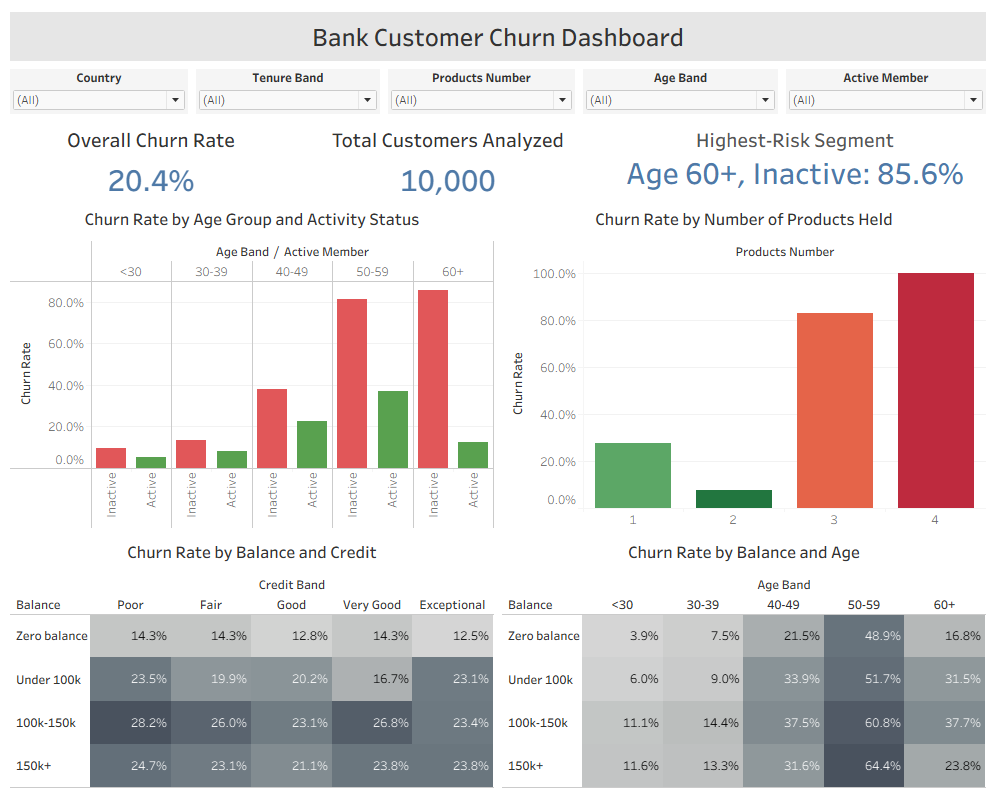

This screenshot's page, from the dashboard's own definition file:
{"tool":"tableau","page":{"name":"Bank Customer Churn Dashboard","canvas":[1000,800],"ordinal":0},"visuals":[{"type":"title","box":[8,8,984,57]},{"type":"filter","title":"Age Band","param":"[federated.1b5b0w31o3w9tf1gng54f0757s9s].[none:country:nk]","box":[8,65,186,52.6]},{"type":"filter","title":"Age Band","param":"[federated.1b5b0w31o3w9tf1gng54f0757s9s].[none:tenure_band:nk]","box":[194,65,192,52.6]},{"type":"filter","title":"Age Band","param":"[federated.1b5b0w31o3w9tf1gng54f0757s9s].[none:products_number:ok]","box":[386,65,195,52.6]},{"type":"filter","title":"Age Band","param":"[federated.1b5b0w31o3w9tf1gng54f0757s9s].[none:age_band:nk]","box":[581,65,203,52.6]},{"type":"filter","title":"Age Band","param":"[federated.1b5b0w31o3w9tf1gng54f0757s9s].[none:Calculation_1660283739516930:nk]","box":[784,65,208,52.6]},{"type":"worksheet","title":"Overall Churn Rate","mark":"Automatic","box":[8,117.6,290,82.4]},{"type":"worksheet","title":"Customer Count","mark":"Automatic","box":[298,117.6,304,82.4]},{"type":"text","box":[602,117.6,390,82.4]},{"type":"worksheet","title":"Age Band","mark":"Automatic","rows":["Calculation_1660283733471232"],"cols":["age_band","Calculation_1660283739516930"],"box":[8,200,492,333]},{"type":"worksheet","title":"Products Number","mark":"Automatic","rows":["Calculation_1660283733471232"],"cols":["products_number"],"box":[500,200,492,333]},{"type":"worksheet","title":"Balance x Credot","mark":"Square","rows":["balance_band"],"cols":["credit_band"],"box":[8,533,492,259]},{"type":"worksheet","title":"Age x Balance","mark":"Square","rows":["balance_band"],"cols":["age_band"],"box":[500,533,492,259]}]}

Visuals, with their boxes in screenshot pixels (x1, y1, x2, y2), scaled from the page's 1000x800 canvas onto the 996x797 screenshot:
title: box(8, 8, 988, 65)
"Age Band" filter: box(8, 65, 193, 117)
"Age Band" filter: box(193, 65, 384, 117)
"Age Band" filter: box(384, 65, 579, 117)
"Age Band" filter: box(579, 65, 781, 117)
"Age Band" filter: box(781, 65, 988, 117)
"Overall Churn Rate" worksheet: box(8, 117, 297, 199)
"Customer Count" worksheet: box(297, 117, 600, 199)
text: box(600, 117, 988, 199)
"Age Band" worksheet: box(8, 199, 498, 531)
"Products Number" worksheet: box(498, 199, 988, 531)
"Balance x Credot" worksheet (Square marks): box(8, 531, 498, 789)
"Age x Balance" worksheet (Square marks): box(498, 531, 988, 789)
